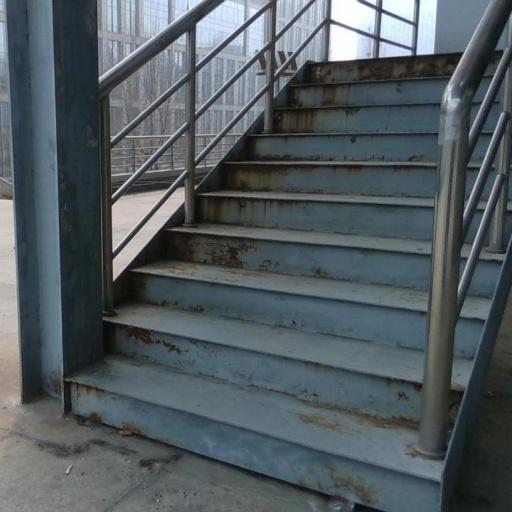stairs: (68, 56, 456, 511)
